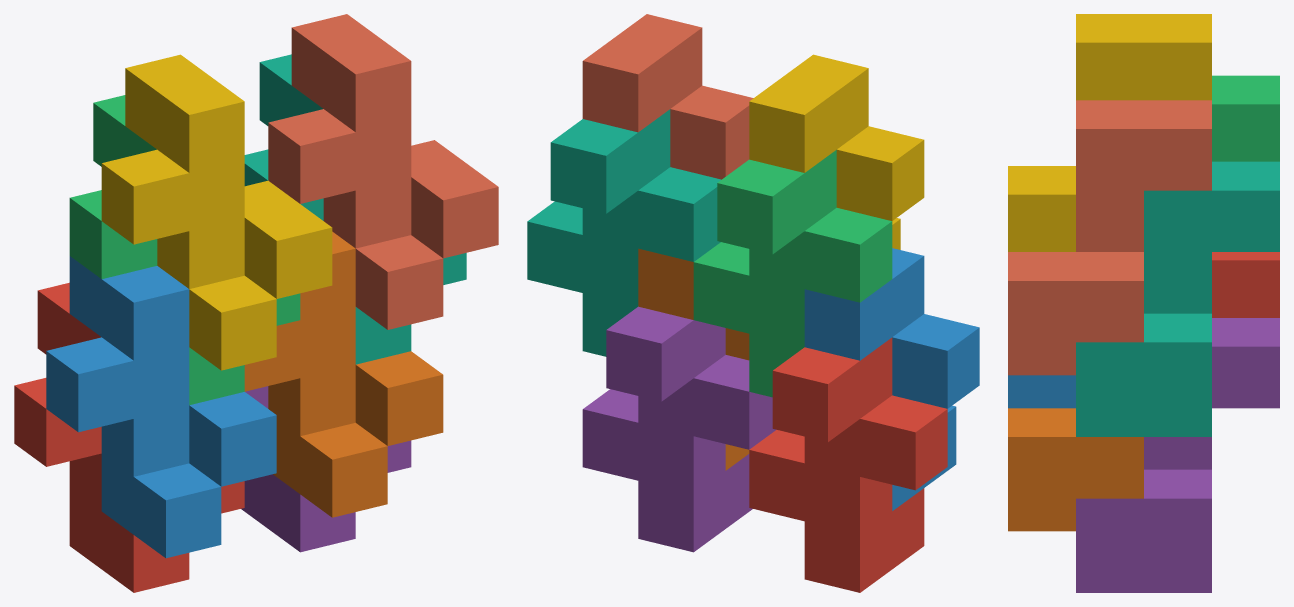
Rendered from tiling.obj.
The picture shows the model from 3 angles, left to right: view 1: azimuth 30°, elevation 25°; view 2: azimuth 150°, elevation 25°; view 3: azimuth 270°, elevation 25°; orthographic projection. The views are drawn at different scales.
Visible parts, largest first — view 1: copy_1_domain_8, copy_1_domain_4, copy_1_domain_2, copy_1_domain_6, copy_1_domain_1, copy_1_domain_3, copy_1_domain_7, copy_1_domain_5; view 2: copy_1_domain_1, copy_1_domain_5, copy_1_domain_3, copy_1_domain_7, copy_1_domain_4, copy_1_domain_8, copy_1_domain_2, copy_1_domain_6; view 3: copy_1_domain_8, copy_1_domain_7, copy_1_domain_5, copy_1_domain_4, copy_1_domain_6, copy_1_domain_3, copy_1_domain_1, copy_1_domain_2.
Boxes of the visible parts, bbox=[...] form: copy_1_domain_8: bbox=[268, 14, 498, 329]; copy_1_domain_4: bbox=[101, 54, 332, 370]; copy_1_domain_2: bbox=[46, 256, 276, 558]; copy_1_domain_6: bbox=[244, 231, 443, 517]; copy_1_domain_1: bbox=[14, 282, 244, 592]; copy_1_domain_3: bbox=[69, 95, 300, 405]; copy_1_domain_7: bbox=[244, 54, 466, 364]; copy_1_domain_5: bbox=[241, 386, 411, 552]; copy_1_domain_1: bbox=[749, 337, 947, 592]; copy_1_domain_5: bbox=[582, 306, 776, 552]; copy_1_domain_3: bbox=[693, 150, 892, 397]; copy_1_domain_7: bbox=[527, 109, 720, 356]; copy_1_domain_4: bbox=[749, 54, 924, 249]; copy_1_domain_8: bbox=[582, 14, 753, 179]; copy_1_domain_2: bbox=[804, 248, 979, 510]; copy_1_domain_6: bbox=[638, 248, 749, 470]; copy_1_domain_8: bbox=[1008, 100, 1211, 375]; copy_1_domain_7: bbox=[1076, 161, 1279, 436]; copy_1_domain_5: bbox=[1076, 318, 1279, 592]; copy_1_domain_4: bbox=[1008, 14, 1211, 251]; copy_1_domain_6: bbox=[1008, 408, 1143, 531]; copy_1_domain_3: bbox=[1212, 75, 1279, 161]; copy_1_domain_1: bbox=[1212, 252, 1279, 317]; copy_1_domain_2: bbox=[1008, 375, 1075, 408].
Bounding box in the file's own units: 7 × 8 × 4.
